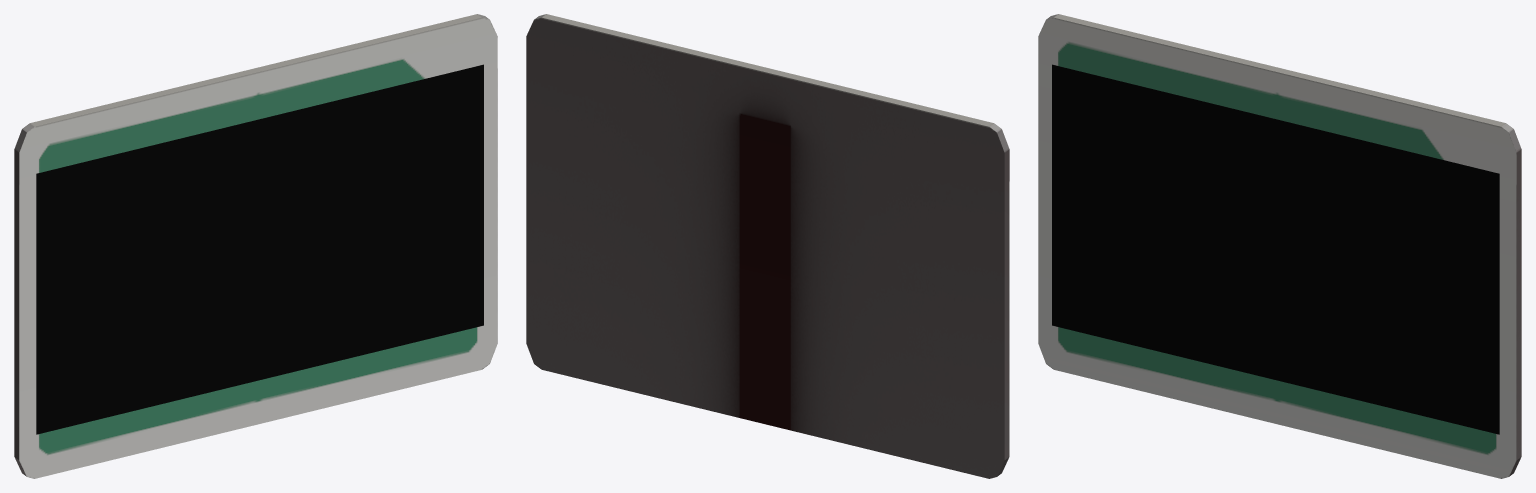
Rendered from SM_Distance_Marker_Sign.FBX.
3 views of the same model, side by side, from view 1: azimuth 30°, elevation 25°; view 2: azimuth 150°, elevation 25°; view 3: azimuth 330°, elevation 25° (orthographic).
Parts seen in each view (by area): view 1: SM_Distance_Marker_Sign; view 2: SM_Distance_Marker_Sign; view 3: SM_Distance_Marker_Sign.
Part boxes in pixels (<box>): SM_Distance_Marker_Sign: <box>14,14,497,478</box>; SM_Distance_Marker_Sign: <box>526,14,1009,478</box>; SM_Distance_Marker_Sign: <box>1038,14,1521,478</box>.
Size of the model in its own units: 70.82 by 1.73 by 49.84.
